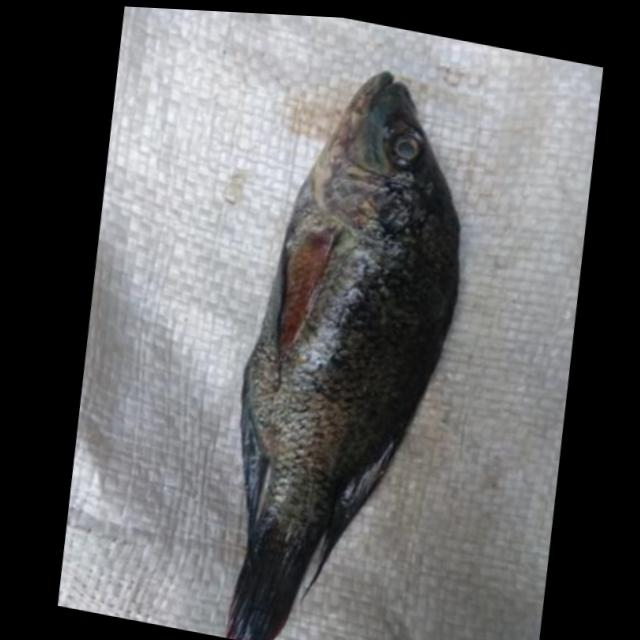Tilapia: (193, 47, 496, 640)
